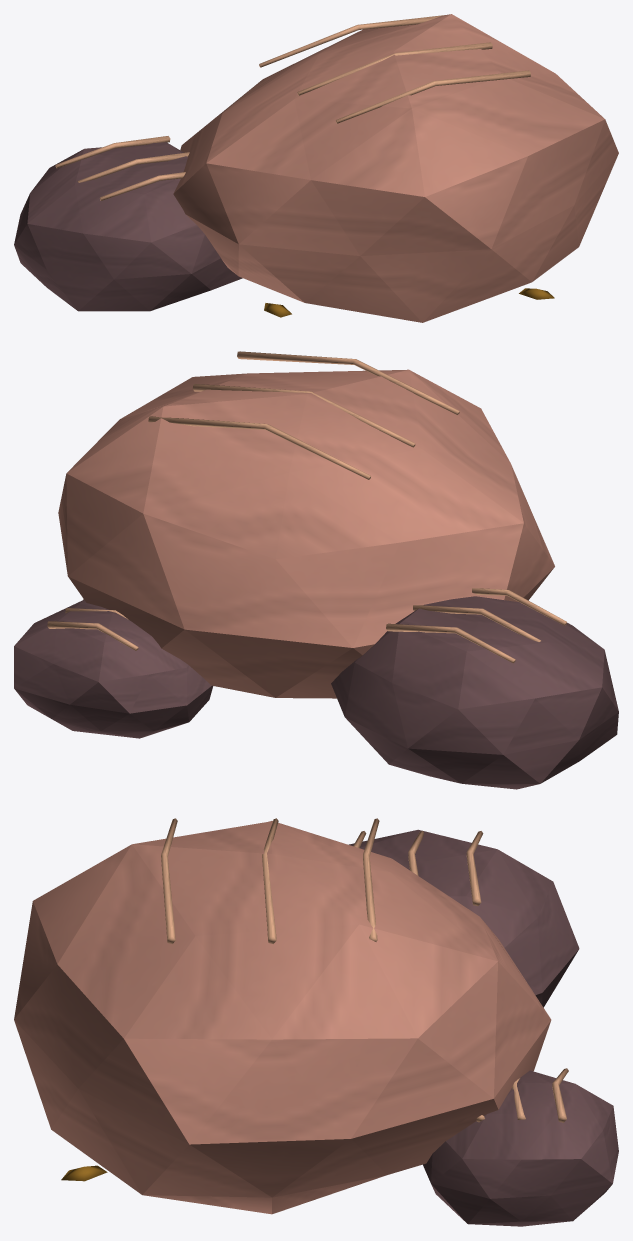
File: PilotBoulder_1.fbx
3 renders of one model, top to bottom at view 1: azimuth 30°, elevation 25°; view 2: azimuth 150°, elevation 25°; view 3: azimuth 270°, elevation 25°, orthographic. The views are drawn at different scales.
Visible parts, largest first — view 1: PilotBoulder_1__Geometry; view 2: PilotBoulder_1__Geometry; view 3: PilotBoulder_1__Geometry.
Part boxes in pixels (x1,y1,x2,y2): PilotBoulder_1__Geometry: (14,14,618,322); PilotBoulder_1__Geometry: (14,351,618,789); PilotBoulder_1__Geometry: (14,818,618,1226).
Bounding box in the file's own units: 1.63 × 0.7051 × 1.29.
